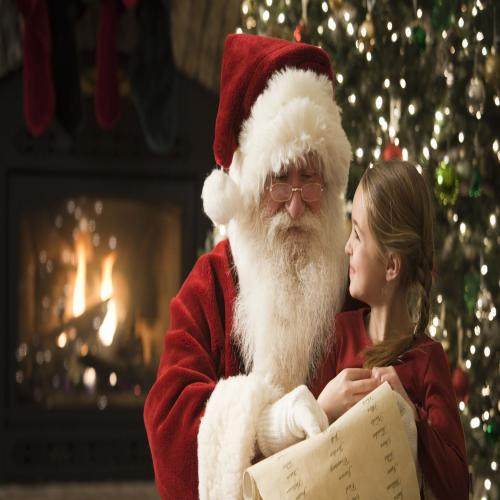Santa: (149, 33, 354, 500)
